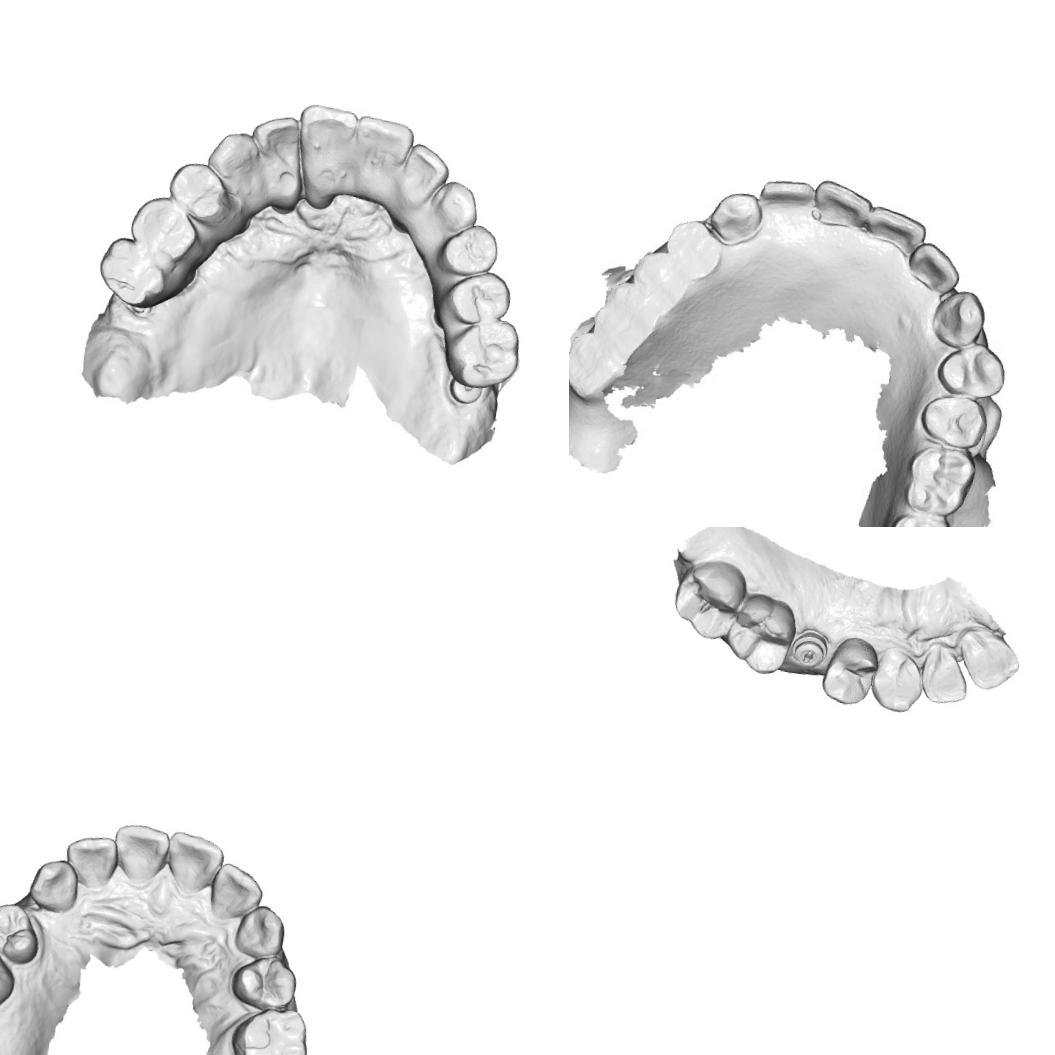canine: (202, 127, 266, 209), (866, 642, 928, 716), (926, 286, 988, 351), (424, 176, 482, 236), (232, 902, 289, 961), (26, 856, 82, 916), (707, 188, 767, 242)
implant: (446, 378, 484, 406)
implant_minus: (788, 626, 831, 671)
incisor: (287, 100, 360, 213), (241, 110, 310, 212), (345, 113, 417, 210), (953, 624, 1025, 695), (398, 140, 454, 222), (162, 829, 227, 898), (108, 820, 173, 888), (808, 176, 878, 236), (917, 639, 974, 709), (206, 860, 267, 924), (61, 830, 121, 894), (864, 202, 926, 260), (909, 239, 965, 299), (754, 176, 815, 220)
molar: (94, 234, 200, 315), (670, 554, 750, 644), (722, 587, 801, 677), (442, 311, 525, 393), (126, 191, 204, 264), (904, 444, 974, 516), (225, 1000, 314, 1055), (0, 931, 21, 1023), (879, 508, 951, 527)
premolar: (164, 158, 236, 229), (818, 632, 884, 709), (440, 264, 514, 331), (227, 950, 300, 1014), (936, 342, 1008, 402), (660, 216, 725, 282), (918, 389, 988, 450), (436, 218, 503, 281), (628, 249, 689, 313), (0, 899, 44, 968)
